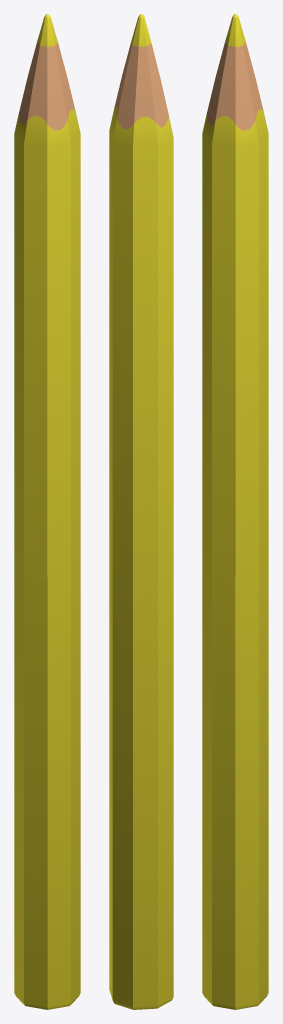
File: pencil_6.glb
The picture shows the model from 3 angles, left to right: view 1: azimuth 90°, elevation 25°; view 2: azimuth 210°, elevation 25°; view 3: azimuth 270°, elevation 25°; orthographic projection.
Parts seen in each view (by area): view 1: Cylinder.035; view 2: Cylinder.035; view 3: Cylinder.035.
Boxes of the visible parts, x1,y1,x2,y2 form: Cylinder.035: (14,14,80,1009); Cylinder.035: (109,14,173,1009); Cylinder.035: (202,14,268,1009).
Size of the model in its own units: 0.00842 by 0.1376 by 0.00842.
1 material, 1 textured.
